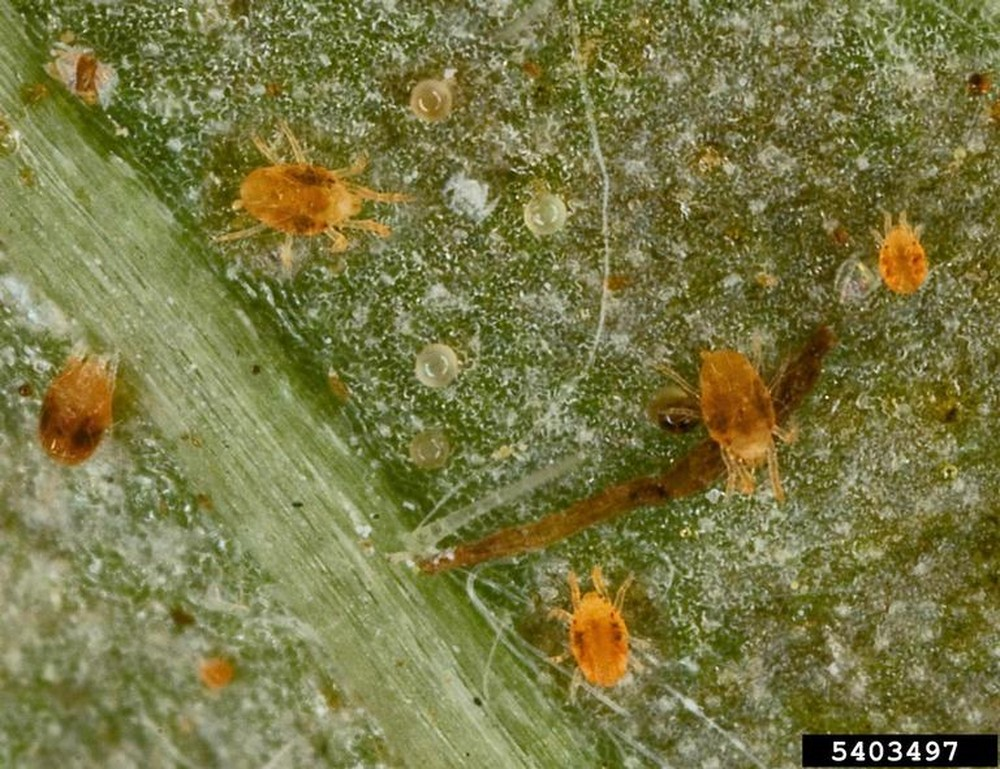Aracnido Rojo: (649, 332, 819, 520), (208, 118, 401, 271), (542, 554, 661, 698), (17, 339, 139, 477), (863, 199, 939, 305)
